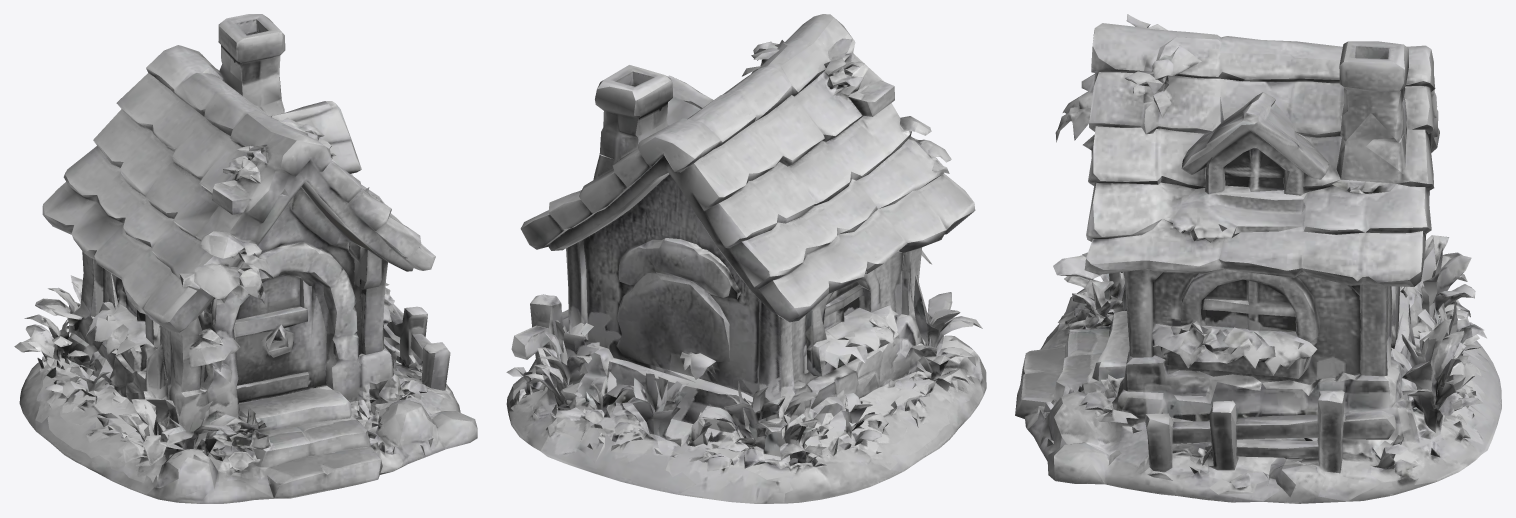
File: house-silver.glb
3 views of the same model, side by side, from view 1: azimuth 30°, elevation 25°; view 2: azimuth 150°, elevation 25°; view 3: azimuth 270°, elevation 25° (orthographic). The views are drawn at different scales.
Visible parts, largest first — view 1: geometry_0; view 2: geometry_0; view 3: geometry_0.
Boxes of the visible parts, x1,y1,x2,y2 form: geometry_0: (14,14,477,503); geometry_0: (506,14,986,503); geometry_0: (1015,14,1501,503).
Bounding box in the file's own units: 0.2305 × 0.2 × 0.2309.
Materials: 1 (1 with a texture image).
